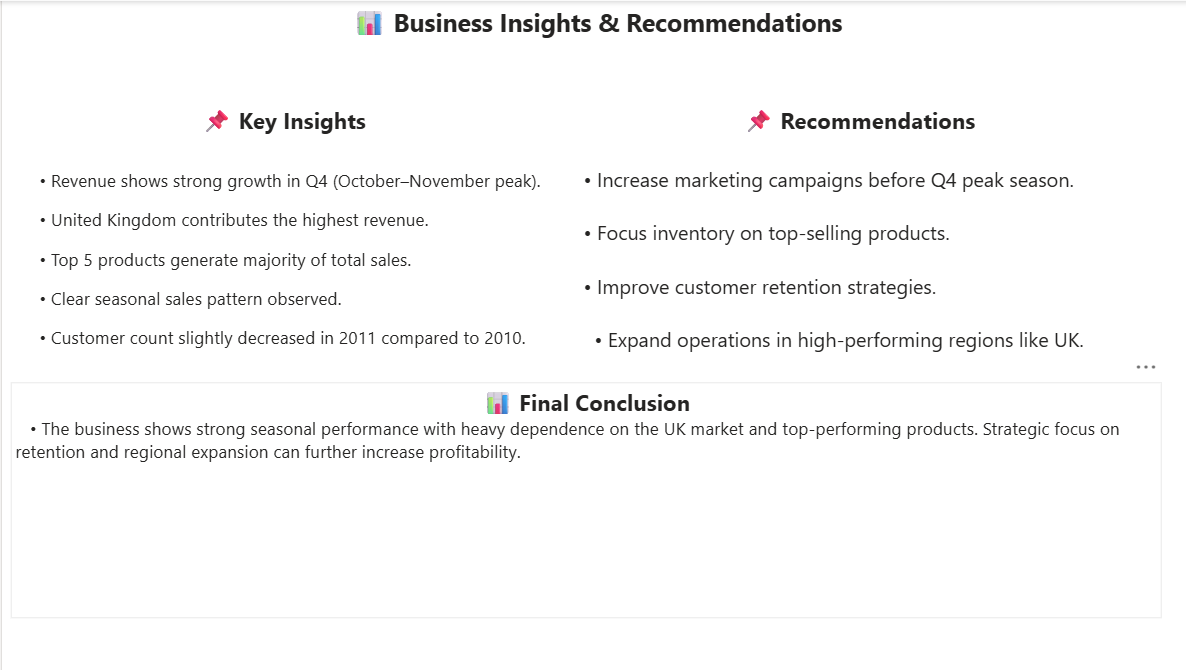

The page's visual inventory and layout, read from the dashboard file:
{"tool":"powerbi","page":{"name":"Page 2","canvas":[1280,720],"ordinal":1},"visuals":[{"type":"textbox","box":[0,0,1280.3,45.7],"z":0},{"type":"textbox","box":[9.4,107.5,587.1,292.9],"z":1000},{"type":"textbox","box":[596.5,107.5,650.2,292.9],"z":2000},{"type":"textbox","box":[9.4,409.7,1237.3,253.9],"z":3000}]}

Visuals, with their boxes in screenshot pixels (x1, y1, x2, y2), scaled from the page's 1280x720 canvas onto the 1186x670 screenshot:
textbox: pyautogui.locateOnScreen(0, 0, 1185, 43)
textbox: pyautogui.locateOnScreen(9, 100, 553, 373)
textbox: pyautogui.locateOnScreen(553, 100, 1155, 373)
textbox: pyautogui.locateOnScreen(9, 381, 1155, 618)
